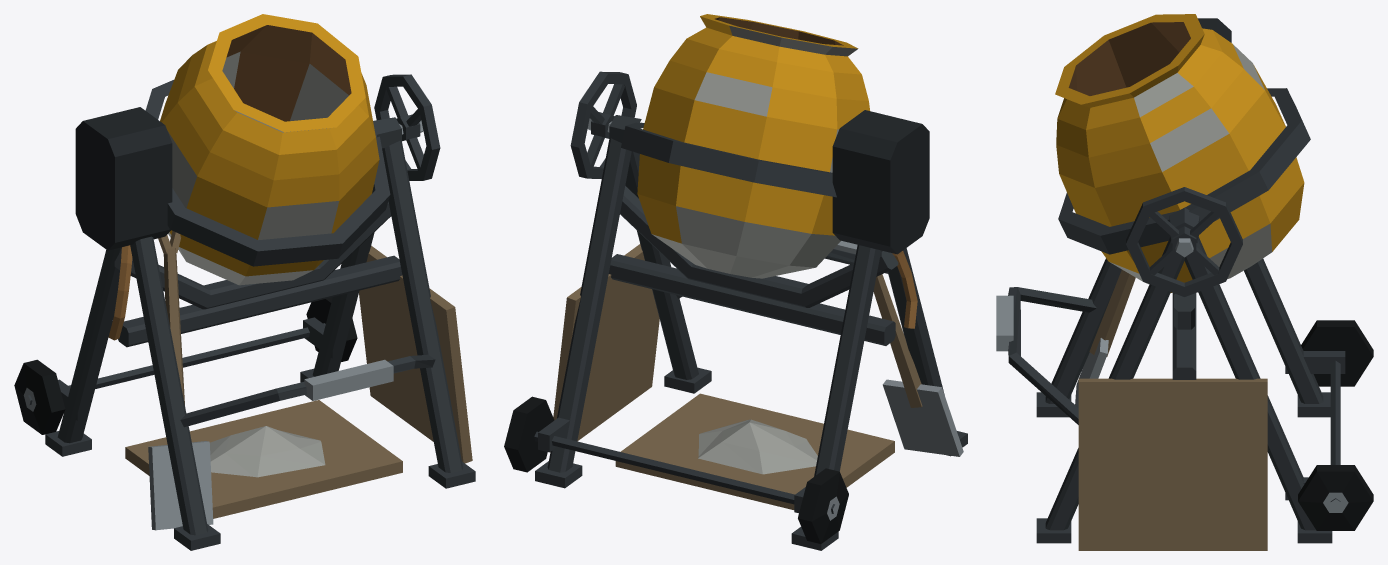
The model's file is cement-mixer-on-a-8fb979.glb.
The picture shows the model from 3 angles, left to right: view 1: azimuth 30°, elevation 25°; view 2: azimuth 150°, elevation 25°; view 3: azimuth 270°, elevation 25°; orthographic projection.
Parts seen in each view (by area): view 1: drum-mesh, stand, yoke-frame, mortar-board-mesh, spot-board-mesh, shovel-mesh, handwheel-mesh, wheel-l-mesh, lead-mesh, wheel-r-mesh; view 2: drum-mesh, stand, yoke-frame, mortar-board-mesh, spot-board-mesh, shovel-mesh, handwheel-mesh, wheel-l-mesh, wheel-r-mesh, lead-mesh; view 3: drum-mesh, spot-board-mesh, stand, yoke-frame, handwheel-mesh, wheel-r-mesh, wheel-l-mesh, shovel-mesh.
Boxes of the visible parts, x1=… form: drum-mesh: x1=160, y1=14, x2=379, y2=285; stand: x1=25, y1=141, x2=475, y2=550; yoke-frame: x1=75, y1=80, x2=401, y2=266; mortar-board-mesh: x1=125, y1=400, x2=402, y2=518; spot-board-mesh: x1=359, y1=245, x2=472, y2=463; shovel-mesh: x1=148, y1=231, x2=213, y2=530; handwheel-mesh: x1=374, y1=74, x2=440, y2=180; wheel-l-mesh: x1=14, y1=359, x2=65, y2=434; lead-mesh: x1=108, y1=245, x2=132, y2=340; wheel-r-mesh: x1=306, y1=297, x2=357, y2=361; drum-mesh: x1=637, y1=14, x2=869, y2=278; stand: x1=534, y1=138, x2=967, y2=550; yoke-frame: x1=609, y1=110, x2=929, y2=254; mortar-board-mesh: x1=615, y1=393, x2=894, y2=509; spot-board-mesh: x1=550, y1=244, x2=659, y2=452; shovel-mesh: x1=873, y1=274, x2=963, y2=456; handwheel-mesh: x1=570, y1=71, x2=636, y2=178; wheel-l-mesh: x1=798, y1=468, x2=848, y2=543; wheel-r-mesh: x1=504, y1=396, x2=554, y2=472; lead-mesh: x1=892, y1=251, x2=917, y2=328; drum-mesh: x1=1055, y1=14, x2=1304, y2=292; spot-board-mesh: x1=1078, y1=378, x2=1267, y2=550; stand: x1=996, y1=237, x2=1345, y2=543; yoke-frame: x1=1058, y1=18, x2=1310, y2=254; handwheel-mesh: x1=1126, y1=187, x2=1242, y2=296; wheel-r-mesh: x1=1298, y1=465, x2=1373, y2=530; wheel-l-mesh: x1=1301, y1=320, x2=1373, y2=386; shovel-mesh: x1=1075, y1=269, x2=1135, y2=407.
Bounding box in the file's own units: 1 × 1.3 × 0.9976.
